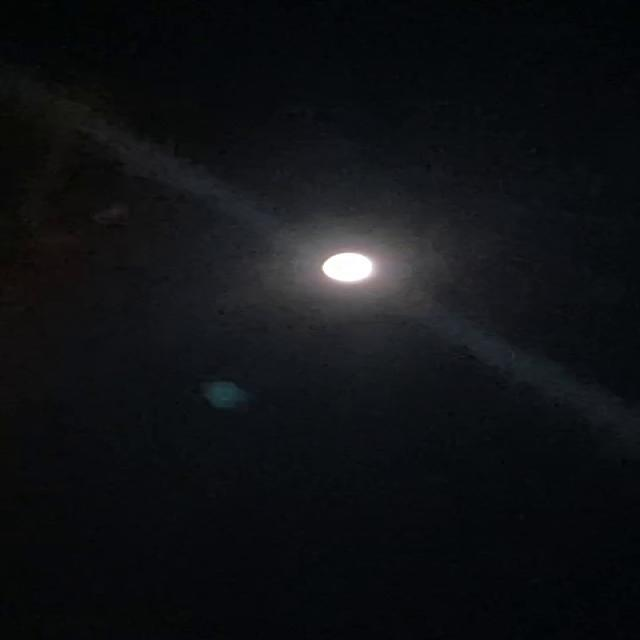moon: (310, 236, 414, 286)
